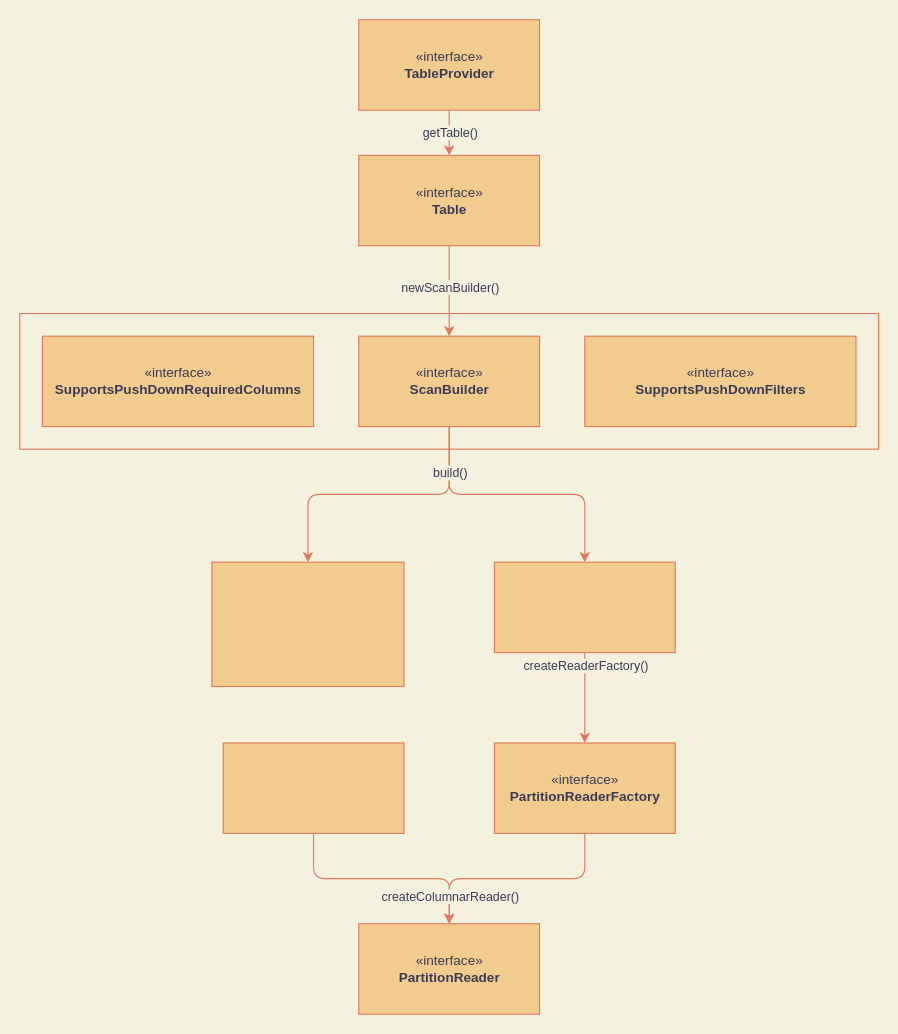
Image size: 898x1034. Some labels were removed from this diagram. The box of each missing label's shape, as (x1, y1, x2, y2) in pixels:
<<Interface>> Scan + readSchema(): StructType: (211, 561, 404, 686)
«interface» Batch: (493, 561, 675, 653)
«interface» InputPartition: (222, 742, 404, 833)
